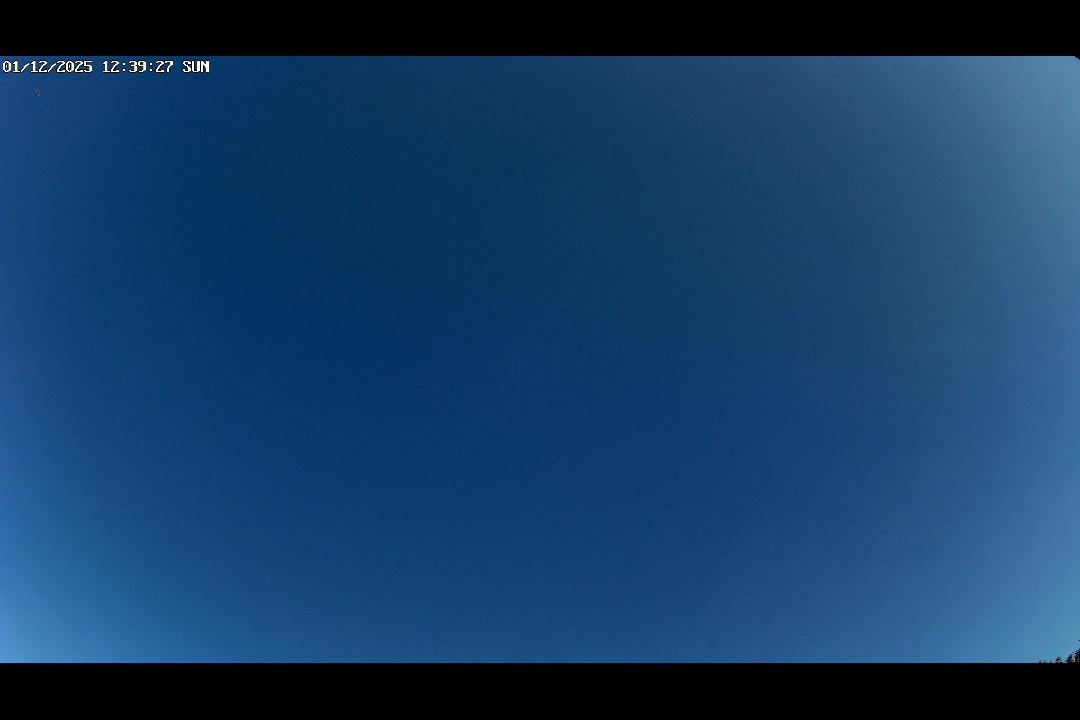WildLife: (21, 86, 55, 100)
